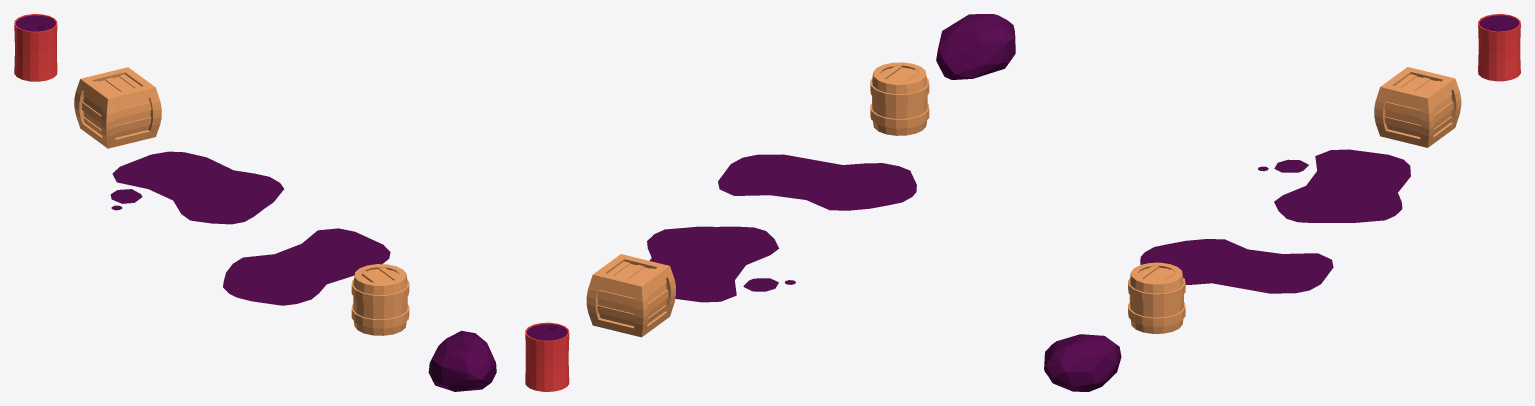
The model's file is crates_set.glb.
The picture shows the model from 3 angles, left to right: view 1: azimuth 30°, elevation 25°; view 2: azimuth 150°, elevation 25°; view 3: azimuth 330°, elevation 25°; orthographic projection. The views are drawn at different scales.
Parts seen in each view (by area): view 1: oil-slick-2, oil-slick, crate, barrel-wood, rock, oil-drum; view 2: oil-slick, oil-slick-2, crate, rock, barrel-wood, oil-drum; view 3: oil-slick-2, oil-slick, crate, barrel-wood, rock, oil-drum.
Boxes of the visible parts, box(x1,y1,x2,y2) form: oil-slick-2: box(110, 151, 283, 224); oil-slick: box(223, 228, 390, 305); crate: box(74, 67, 161, 148); barrel-wood: box(351, 264, 409, 335); rock: box(428, 330, 496, 391); oil-drum: box(14, 14, 57, 81); oil-slick: box(718, 154, 916, 210); oil-slick-2: box(647, 226, 795, 302); crate: box(586, 254, 675, 337); rock: box(936, 14, 1015, 79); barrel-wood: box(870, 62, 929, 135); oil-drum: box(525, 322, 569, 391); oil-slick-2: box(1258, 149, 1410, 222); oil-slick: box(1140, 239, 1333, 293); crate: box(1374, 67, 1461, 147); barrel-wood: box(1128, 262, 1185, 333); rock: box(1044, 334, 1121, 391); oil-drum: box(1478, 14, 1520, 81).
Bounding box in the file's own units: 7.05 × 2.01 × 33.5.
1 material, 1 textured.
